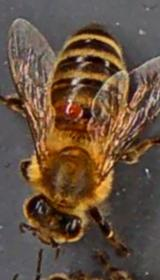varroa_mite: (51, 97, 87, 119)
